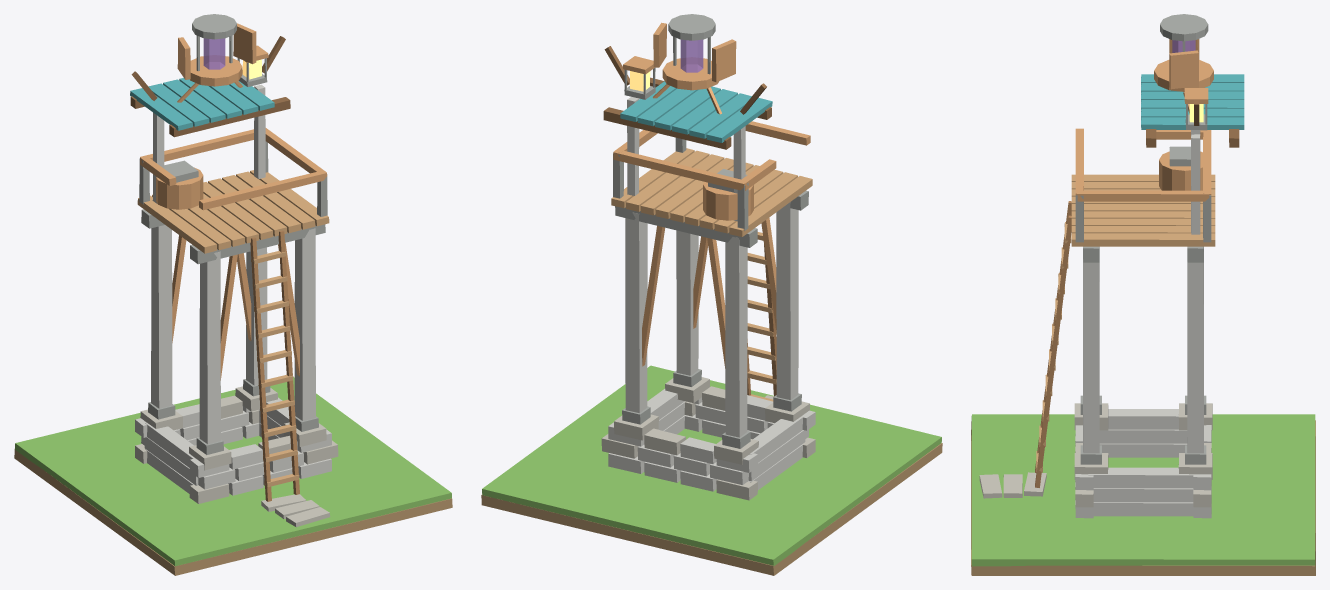
Rendered from tower_l06_active_LOD2.glb.
3 views of the same model, side by side, from view 1: azimuth 30°, elevation 25°; view 2: azimuth 150°, elevation 25°; view 3: azimuth 270°, elevation 25° (orthographic). The views are drawn at different scales.
Parts seen in each view (by area): view 1: tower_l06_grass_tile_tower_l06_active_LOD2_tmp, tower_l06_earth_tile_tower_l06_active_LOD2_tmp, post_-0.61_-0.54_tower_l06_active_LOD2_tmp, post_-0.61_0.54_tower_l06_active_LOD2_tmp, post_0.61_-0.54_tower_l06_active_LOD2_tmp, post_0.61_0.54_tower_l06_active_LOD2_tmp, ladder_rail_-0.18_tower_l06_active_LOD2_tmp, ladder_rail_0.18_tower_l06_active_LOD2_tmp, balcony_rail_-0.66_tower_l06_active_LOD2_tmp, relay_drum_tower_l06_active_LOD2_tmp, deck_board_0_tower_l06_active_LOD2_tmp, deck_bearer_-0.54_tower_l06_active_LOD2_tmp (+32 smaller); view 2: tower_l06_grass_tile_tower_l06_active_LOD2_tmp, tower_l06_earth_tile_tower_l06_active_LOD2_tmp, post_-0.61_0.54_tower_l06_active_LOD2_tmp, post_-0.61_-0.54_tower_l06_active_LOD2_tmp, post_0.61_0.54_tower_l06_active_LOD2_tmp, post_0.61_-0.54_tower_l06_active_LOD2_tmp, balcony_rail_0.66_tower_l06_active_LOD2_tmp, deck_bearer_0.54_tower_l06_active_LOD2_tmp, deck_board_0_tower_l06_active_LOD2_tmp, relay_drum_tower_l06_active_LOD2_tmp, brace_0.61_0.54_tower_l06_active_LOD2_tmp, beacon_crown_tower_l06_active_LOD2_tmp (+33 smaller); view 3: tower_l06_grass_tile_tower_l06_active_LOD2_tmp, tower_l06_earth_tile_tower_l06_active_LOD2_tmp, post_0.61_-0.54_tower_l06_active_LOD2_tmp, post_0.61_0.54_tower_l06_active_LOD2_tmp, stone_return_2_0.72_tower_l06_active_LOD2_tmp, deck_board_8_tower_l06_active_LOD2_tmp, balcony_side_rail_tower_l06_active_LOD2_tmp, ladder_rail_0.18_tower_l06_active_LOD2_tmp, stone_return_0_0.72_tower_l06_active_LOD2_tmp, stone_return_1_0.72_tower_l06_active_LOD2_tmp, stone_return_2_-0.72_tower_l06_active_LOD2_tmp, stone_return_1_-0.72_tower_l06_active_LOD2_tmp (+24 smaller).
Boxes of the visible parts, bbox=[...] form: tower_l06_grass_tile_tower_l06_active_LOD2_tmp: bbox=[15, 377, 451, 566]; tower_l06_earth_tile_tower_l06_active_LOD2_tmp: bbox=[14, 449, 452, 575]; post_-0.61_-0.54_tower_l06_active_LOD2_tmp: bbox=[199, 251, 220, 444]; post_-0.61_0.54_tower_l06_active_LOD2_tmp: bbox=[151, 225, 172, 408]; post_0.61_-0.54_tower_l06_active_LOD2_tmp: bbox=[294, 228, 315, 420]; post_0.61_0.54_tower_l06_active_LOD2_tmp: bbox=[246, 247, 267, 385]; ladder_rail_-0.18_tower_l06_active_LOD2_tmp: bbox=[250, 237, 271, 501]; ladder_rail_0.18_tower_l06_active_LOD2_tmp: bbox=[278, 230, 299, 494]; balcony_rail_-0.66_tower_l06_active_LOD2_tmp: bbox=[199, 172, 327, 210]; relay_drum_tower_l06_active_LOD2_tmp: bbox=[156, 167, 203, 209]; deck_board_0_tower_l06_active_LOD2_tmp: bbox=[137, 195, 216, 253]; deck_bearer_-0.54_tower_l06_active_LOD2_tmp: bbox=[190, 224, 325, 264]; tower_l06_grass_tile_tower_l06_active_LOD2_tmp: bbox=[482, 365, 941, 565]; tower_l06_earth_tile_tower_l06_active_LOD2_tmp: bbox=[481, 443, 942, 575]; post_-0.61_0.54_tower_l06_active_LOD2_tmp: bbox=[725, 237, 747, 437]; post_-0.61_-0.54_tower_l06_active_LOD2_tmp: bbox=[776, 202, 798, 400]; post_0.61_0.54_tower_l06_active_LOD2_tmp: bbox=[625, 212, 647, 413]; post_0.61_-0.54_tower_l06_active_LOD2_tmp: bbox=[676, 230, 698, 375]; balcony_rail_0.66_tower_l06_active_LOD2_tmp: bbox=[613, 149, 744, 190]; deck_bearer_0.54_tower_l06_active_LOD2_tmp: bbox=[615, 206, 757, 247]; deck_board_0_tower_l06_active_LOD2_tmp: bbox=[729, 176, 812, 236]; relay_drum_tower_l06_active_LOD2_tmp: bbox=[703, 182, 753, 220]; brace_0.61_0.54_tower_l06_active_LOD2_tmp: bbox=[642, 225, 665, 366]; beacon_crown_tower_l06_active_LOD2_tmp: bbox=[662, 58, 718, 90]; tower_l06_grass_tile_tower_l06_active_LOD2_tmp: bbox=[971, 414, 1315, 566]; tower_l06_earth_tile_tower_l06_active_LOD2_tmp: bbox=[971, 420, 1315, 575]; post_0.61_-0.54_tower_l06_active_LOD2_tmp: bbox=[1083, 259, 1099, 453]; post_0.61_0.54_tower_l06_active_LOD2_tmp: bbox=[1187, 262, 1203, 453]; stone_return_2_0.72_tower_l06_active_LOD2_tmp: bbox=[1088, 467, 1193, 488]; deck_board_8_tower_l06_active_LOD2_tmp: bbox=[1071, 233, 1215, 246]; balcony_side_rail_tower_l06_active_LOD2_tmp: bbox=[1077, 190, 1209, 201]; ladder_rail_0.18_tower_l06_active_LOD2_tmp: bbox=[1035, 215, 1071, 487]; stone_return_0_0.72_tower_l06_active_LOD2_tmp: bbox=[1093, 502, 1193, 516]; stone_return_1_0.72_tower_l06_active_LOD2_tmp: bbox=[1093, 488, 1193, 502]; stone_return_2_-0.72_tower_l06_active_LOD2_tmp: bbox=[1108, 409, 1178, 429]; stone_return_1_-0.72_tower_l06_active_LOD2_tmp: bbox=[1099, 429, 1187, 443].
Bounding box in the file's own units: 3.57 × 5.48 × 3.57.
